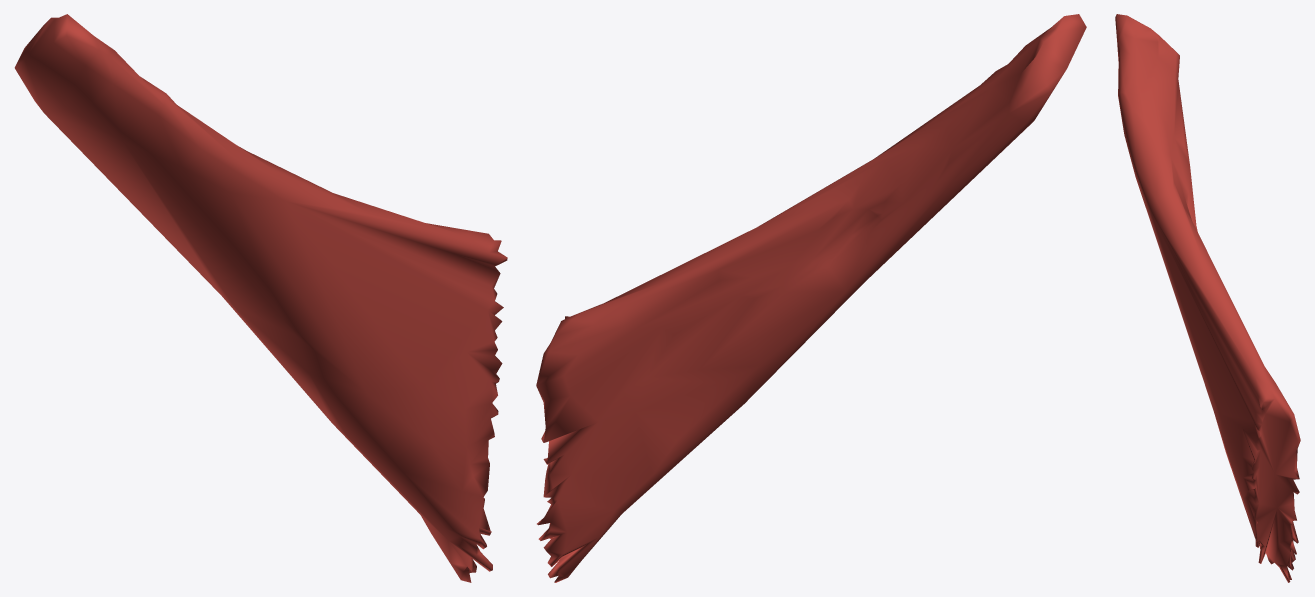
Rendered from musculos-adductor-minimus-l.glb.
The picture shows the model from 3 angles, left to right: view 1: azimuth 30°, elevation 25°; view 2: azimuth 150°, elevation 25°; view 3: azimuth 270°, elevation 25°; orthographic projection. The views are drawn at different scales.
Parts seen in each view (by area): view 1: (Adductor minimus).l; view 2: (Adductor minimus).l; view 3: (Adductor minimus).l.
Boxes of the visible parts, left/top/right/bottom form: (Adductor minimus).l: left=14, top=14, right=507, bottom=582; (Adductor minimus).l: left=536, top=14, right=1086, bottom=582; (Adductor minimus).l: left=1115, top=14, right=1300, bottom=582.
Size of the model in its own units: 0.0801 by 0.1044 by 0.0412.
